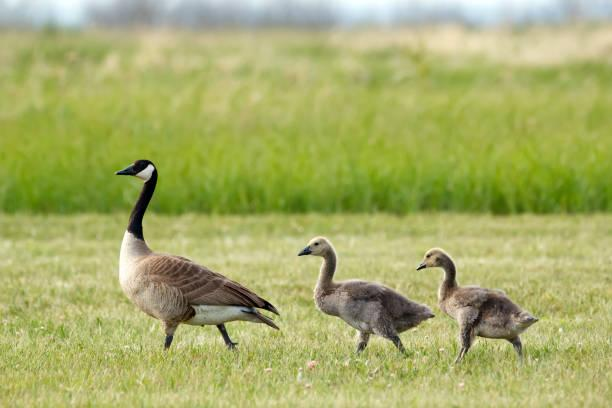Canadian-Goose: (111, 156, 278, 351), (300, 236, 428, 357), (416, 249, 539, 356)
